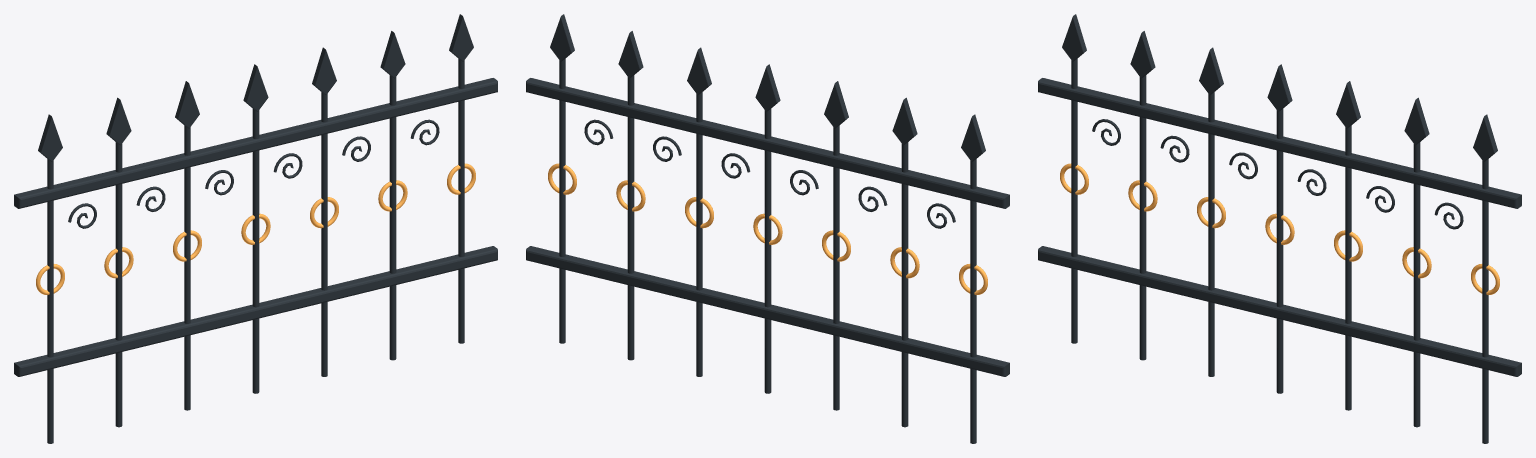
Rendered from hollowwick-halloween-scroll-iron-fence-ce6faae9__21631.glb.
The picture shows the model from 3 angles, left to right: view 1: azimuth 30°, elevation 25°; view 2: azimuth 150°, elevation 25°; view 3: azimuth 330°, elevation 25°; orthographic projection.
Parts seen in each view (by area): view 1: scroll-iron-fence; view 2: scroll-iron-fence; view 3: scroll-iron-fence.
Part boxes in pixels (x1,y1,x2,y2): scroll-iron-fence: (14,14,497,443); scroll-iron-fence: (526,14,1009,443); scroll-iron-fence: (1038,14,1521,443).
Bounding box in the file's own units: 2 × 1.3 × 0.0449.
